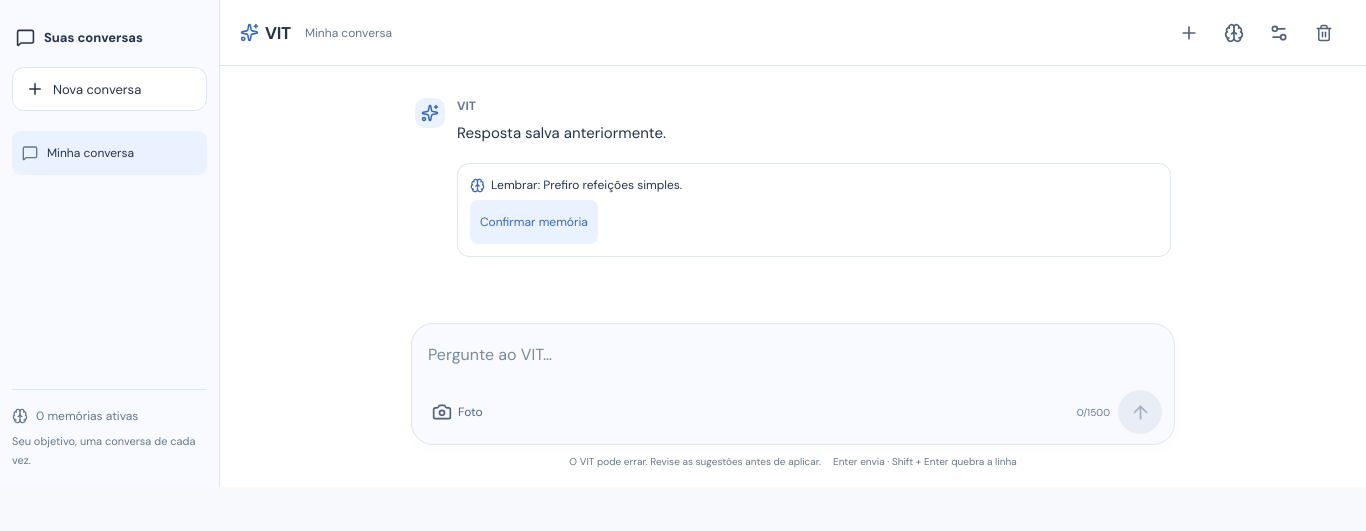
Scenario: Enter no celular mantém a digitação; no computador envia, respeitando Shift e composição
Expected: the text "Resposta salva anteriormente." is shown, [457, 123, 666, 143]
Type "Como organizar meu almoço?" into the text box named "Converse com o VIT". click: (793, 364)
box: [424, 338, 1162, 390]
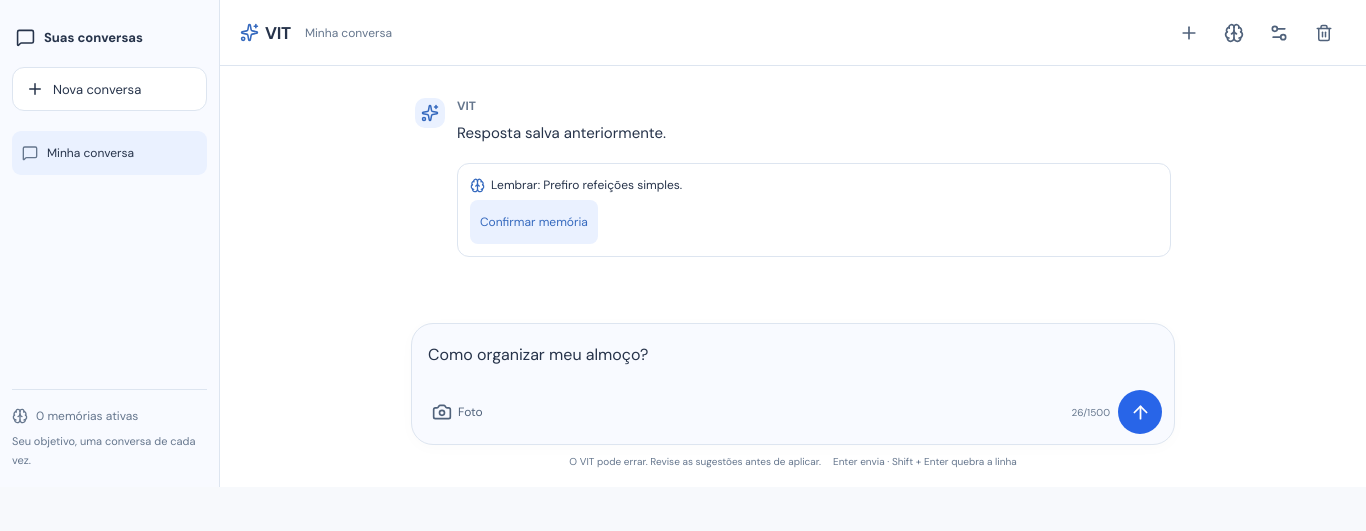
Press Enter in the text box named "Converse com o VIT", box [424, 338, 1162, 390]
Press Enter in the text box named "Converse com o VIT", box [424, 338, 1162, 390]
Press Enter in the text box named "Converse com o VIT", box [424, 338, 1162, 390]
Press Enter in the text box named "Converse com o VIT", box [424, 338, 1162, 390]
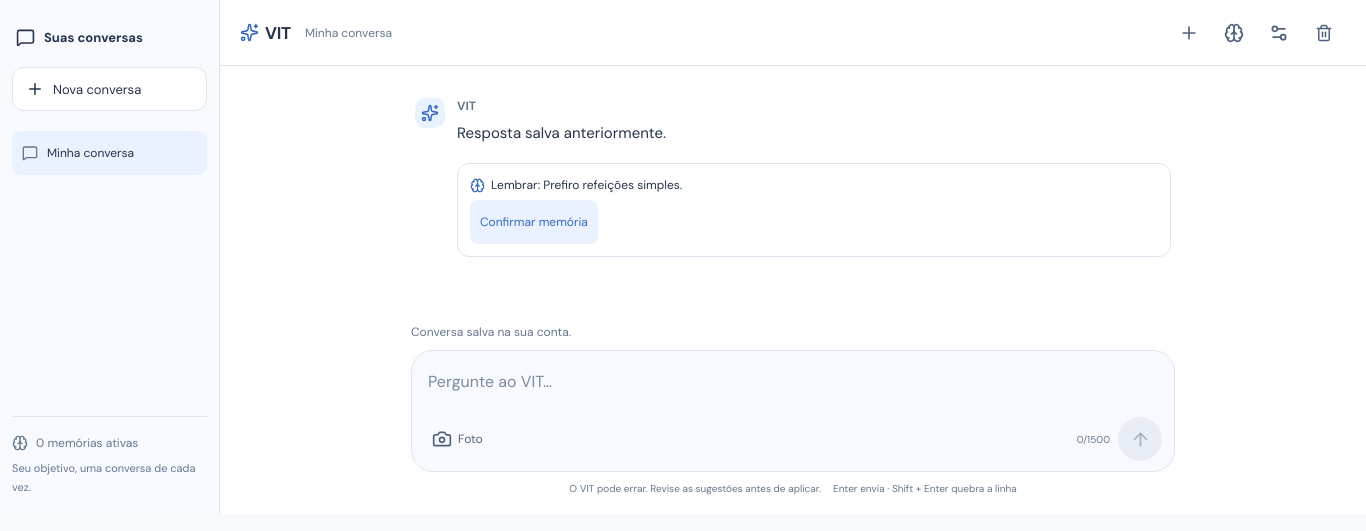
Expected: the text "Conversa salva na sua conta." is shown, [411, 324, 571, 340]
